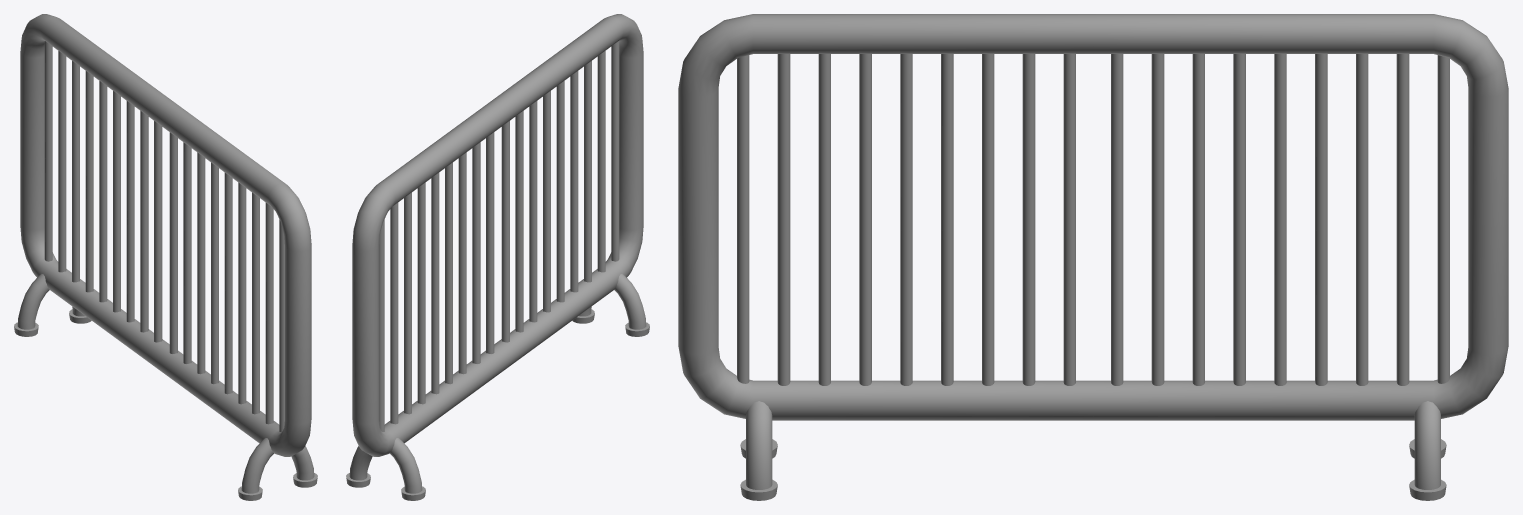
File: MetalBarrier01.fbx
3 renders of one model, left to right at view 1: azimuth 30°, elevation 25°; view 2: azimuth 150°, elevation 25°; view 3: azimuth 270°, elevation 25°, orthographic. The views are drawn at different scales.
Visible parts, largest first — view 1: MetalBarrier01; view 2: MetalBarrier01; view 3: MetalBarrier01.
Boxes of the visible parts, <box> form: MetalBarrier01: <box>14,14,317,500</box>; MetalBarrier01: <box>346,14,649,500</box>; MetalBarrier01: <box>678,14,1508,500</box>.
Size of the model in its own units: 0.421 by 2.64 by 1.61.
